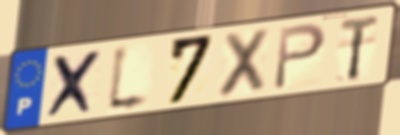7: (166, 32, 216, 108)
L: (103, 41, 153, 116)
P: (271, 20, 329, 93)
T: (338, 12, 382, 84)
X: (43, 47, 107, 122), (214, 25, 274, 101)
